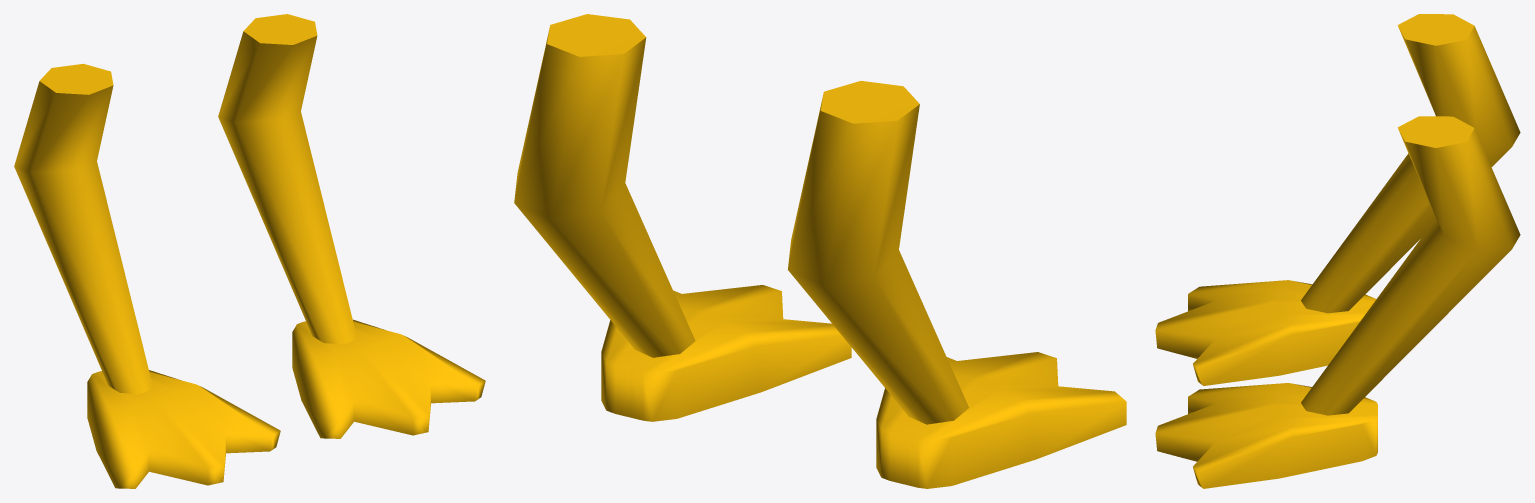
The model's file is FeetFetish.fbx.
3 renders of one model, left to right at view 1: azimuth 30°, elevation 25°; view 2: azimuth 150°, elevation 25°; view 3: azimuth 270°, elevation 25°, orthographic. The views are drawn at different scales.
Visible parts, largest first — view 1: pCube10; view 2: pCube10; view 3: pCube10.
Part boxes in pixels (bbox=[...]): pCube10: bbox=[14, 14, 485, 488]; pCube10: bbox=[514, 14, 1126, 488]; pCube10: bbox=[1155, 14, 1520, 488].
Size of the model in its own units: 1.59 by 1.25 by 1.32.
